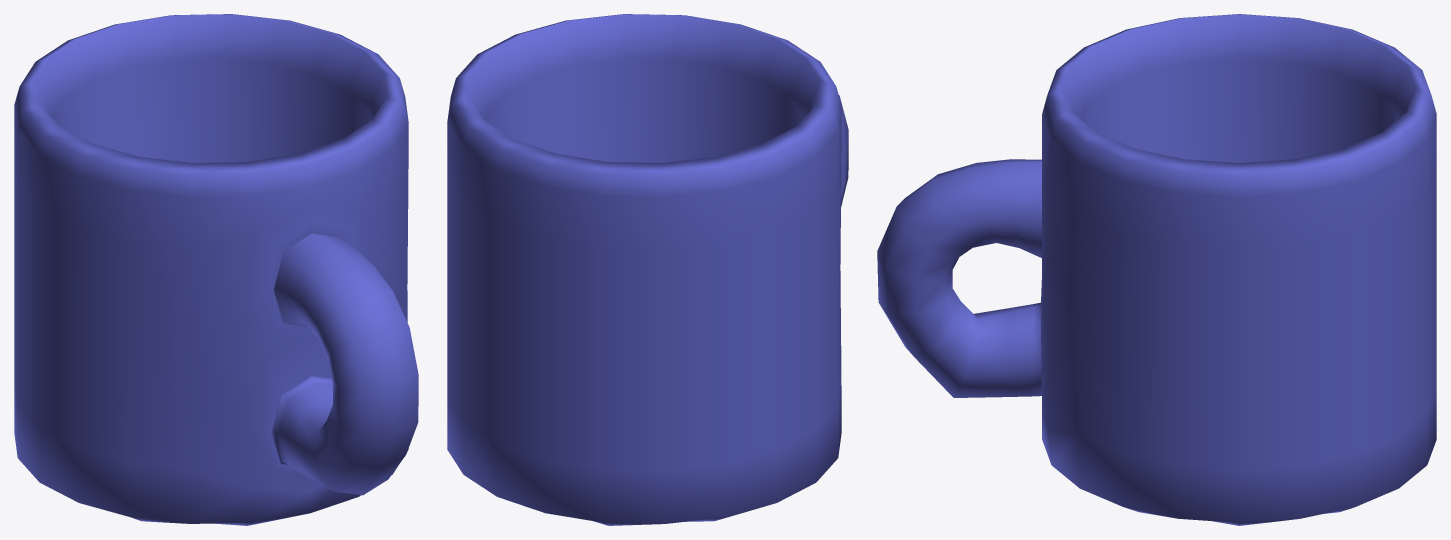
File: mug.fbx
3 renders of one model, left to right at view 1: azimuth 30°, elevation 25°; view 2: azimuth 150°, elevation 25°; view 3: azimuth 270°, elevation 25°, orthographic.
Parts seen in each view (by area): view 1: pCylinder1; view 2: pCylinder1; view 3: pCylinder1.
Boxes of the visible parts, x1,y1,x2,y2 form: pCylinder1: [14, 14, 418, 525]; pCylinder1: [447, 14, 848, 525]; pCylinder1: [877, 14, 1436, 525].
Bounding box in the file's own units: 3.81 × 4 × 5.39.
